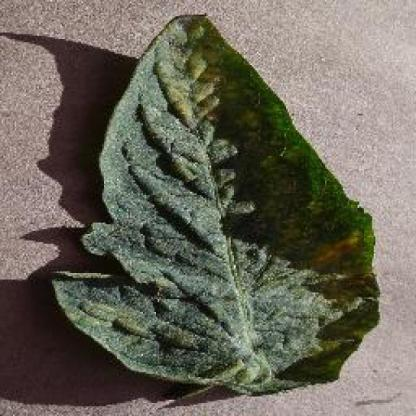Tomato_Spider_Mites: (54, 16, 374, 388)
